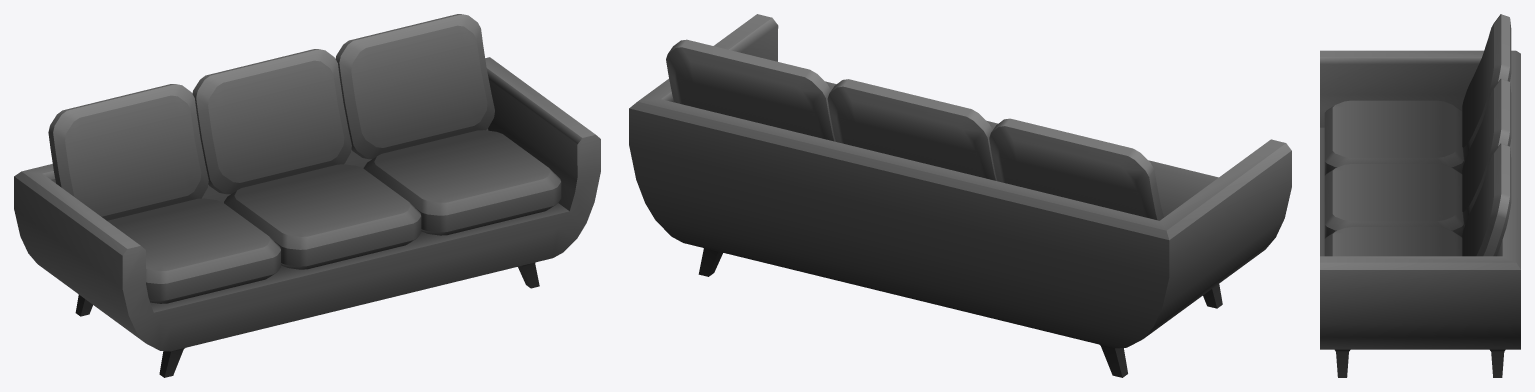
Rendered from Sofa.fbx.
3 renders of one model, left to right at view 1: azimuth 30°, elevation 25°; view 2: azimuth 150°, elevation 25°; view 3: azimuth 270°, elevation 25°, orthographic. The views are drawn at different scales.
Visible parts, largest first — view 1: Sofa; view 2: Sofa; view 3: Sofa.
Boxes of the visible parts, x1,y1,x2,y2 form: Sofa: (14, 14, 600, 377); Sofa: (629, 14, 1291, 377); Sofa: (1320, 14, 1520, 377).
Size of the model in its own units: 2.65 by 1.08 by 1.04.
